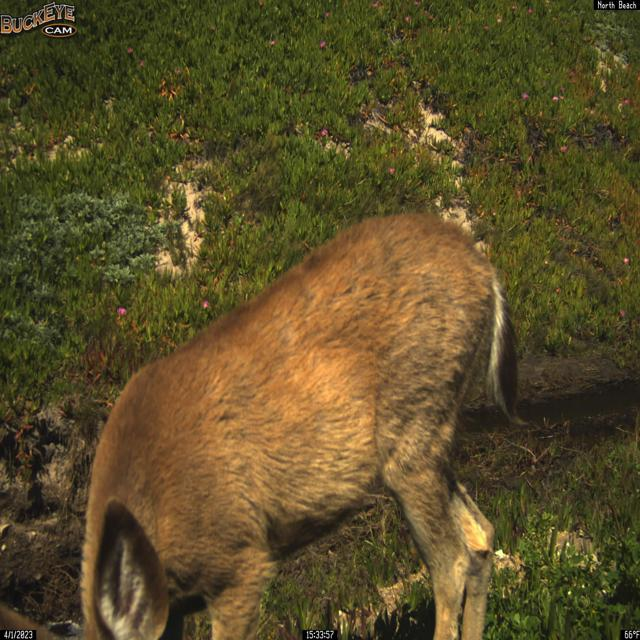deer: (0, 211, 530, 639)
